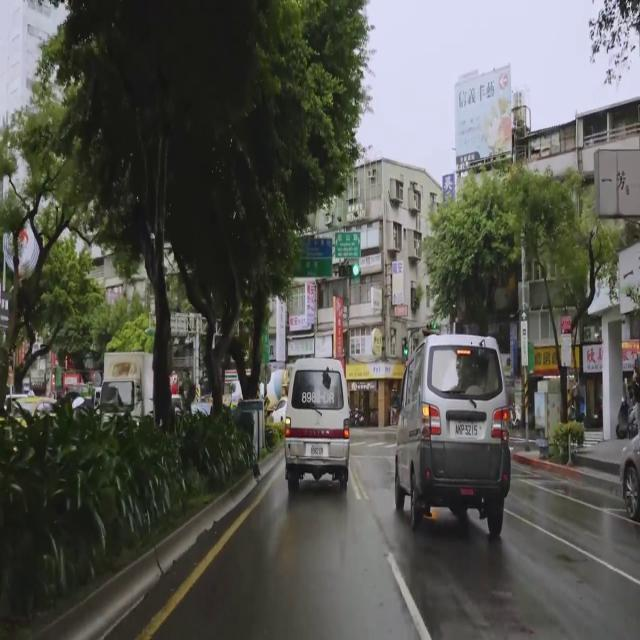red light: (338, 263, 360, 280)
